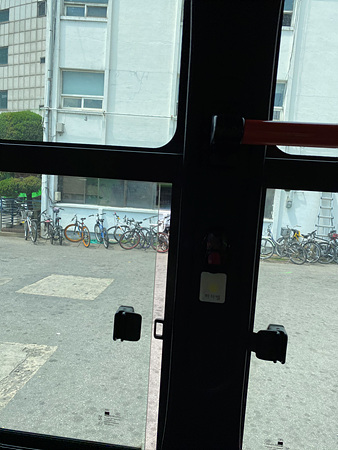bell: (202, 230, 226, 272)
